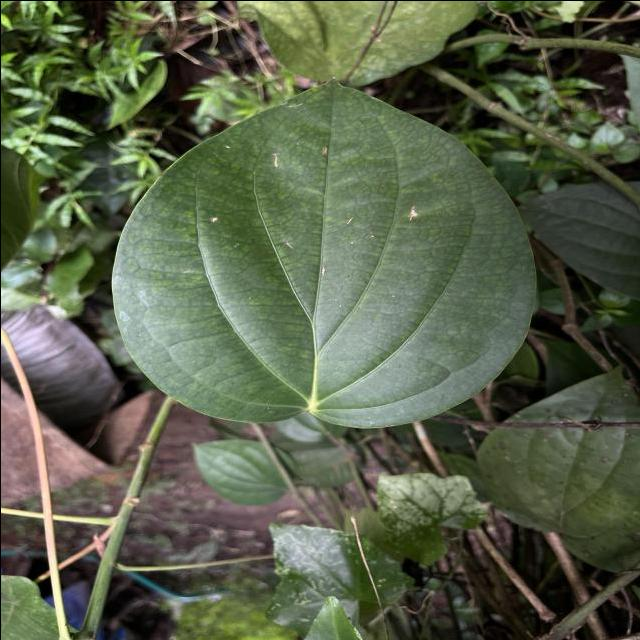Piper nigrum: (106, 74, 538, 431)
